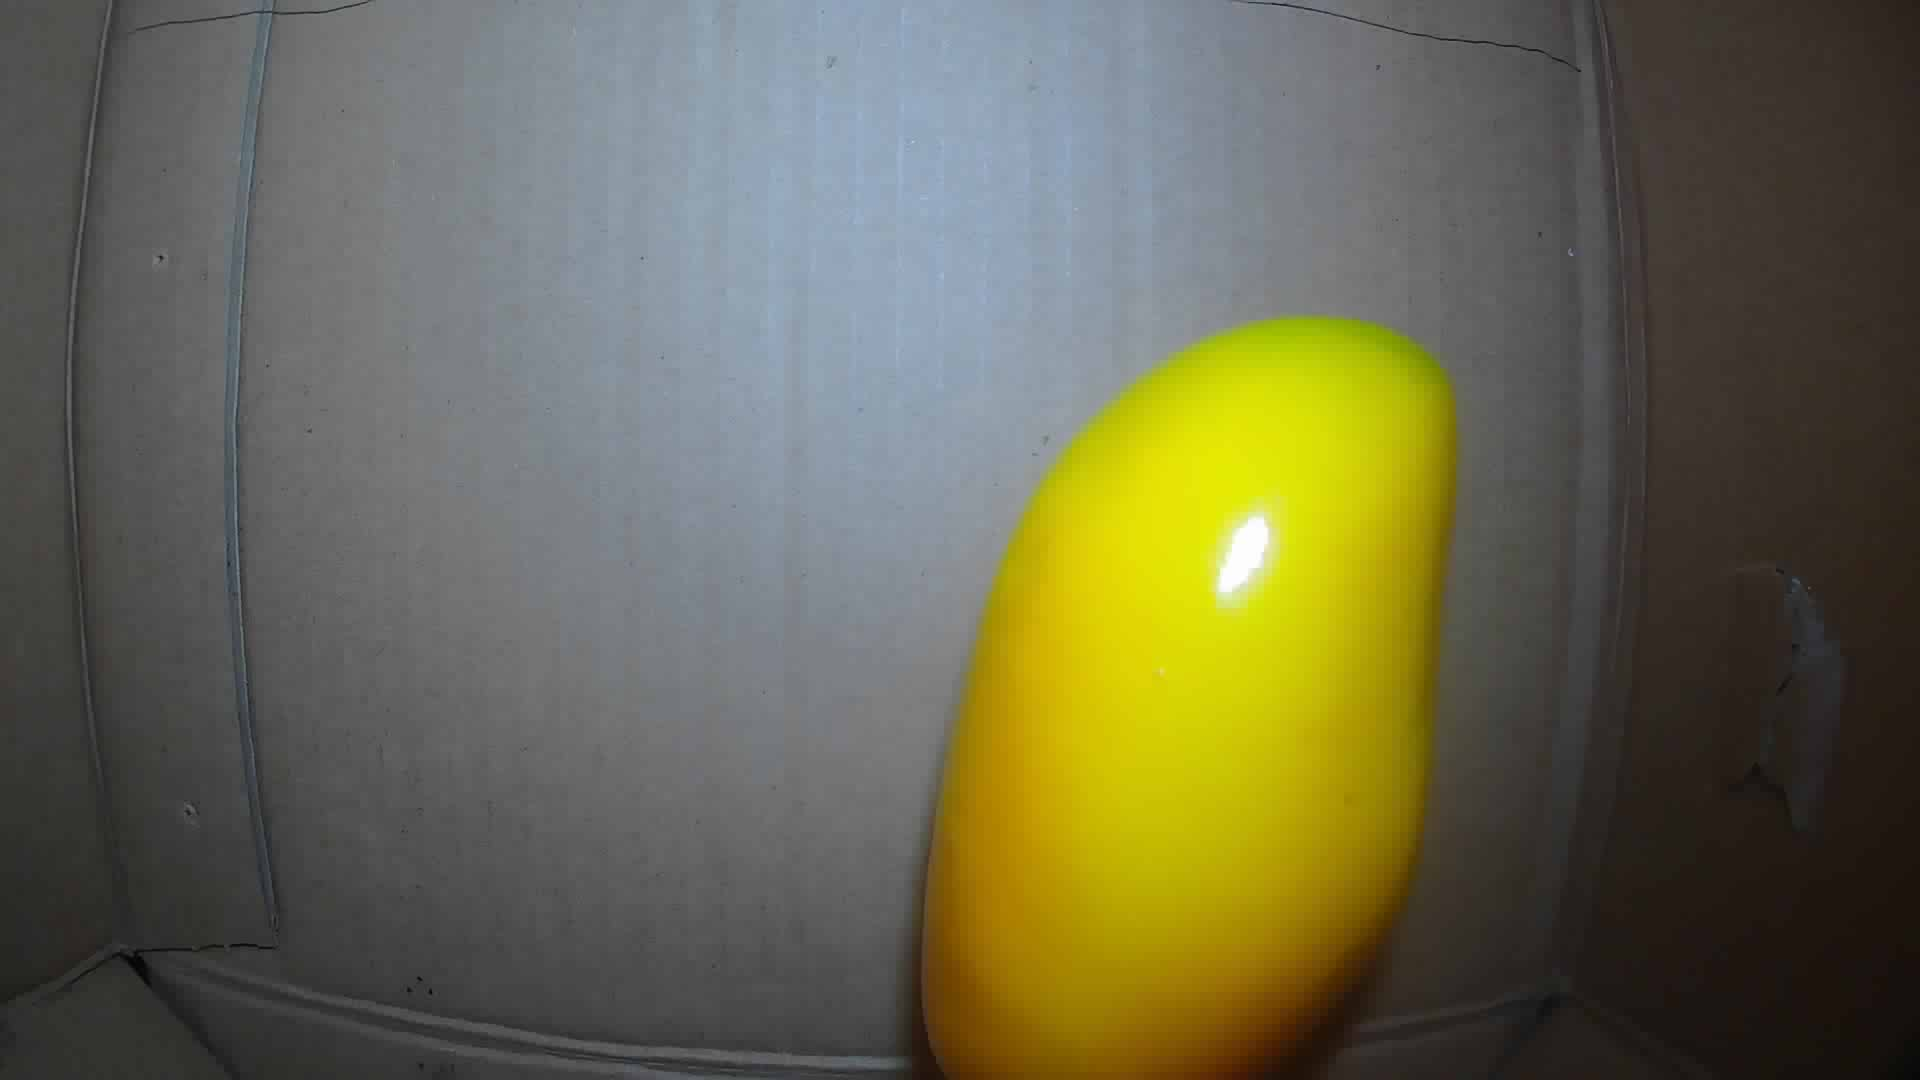mango: (916, 319, 1456, 1080)
